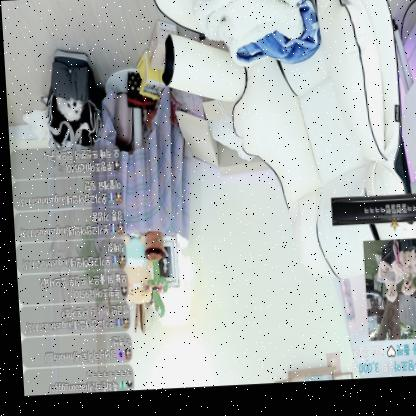donation: (327, 198, 416, 382)
